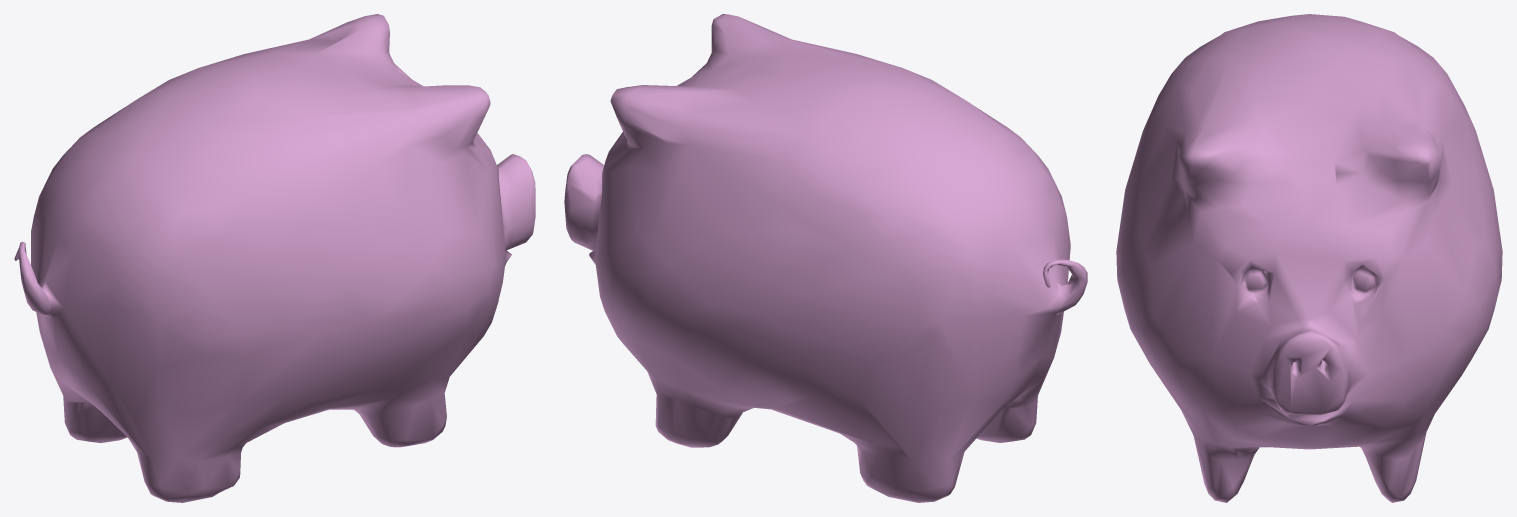
The model's file is Pig.FBX.
3 renders of one model, left to right at view 1: azimuth 30°, elevation 25°; view 2: azimuth 150°, elevation 25°; view 3: azimuth 270°, elevation 25°, orthographic. The views are drawn at different scales.
Visible parts, largest first — view 1: Pig; view 2: Pig; view 3: Pig.
Part boxes in pixels (x1,y1,x2,y2): Pig: (14, 14, 535, 502); Pig: (564, 14, 1087, 502); Pig: (1116, 14, 1502, 502).
Bounding box in the file's own units: 389 × 240 × 268.
